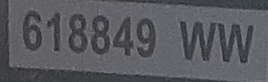1: (46, 10, 62, 53)
4: (111, 16, 135, 57)
6: (20, 9, 43, 53)
8: (67, 11, 88, 55), (91, 14, 111, 56)
9: (135, 18, 157, 59)
w: (180, 20, 217, 64), (218, 22, 254, 64)
